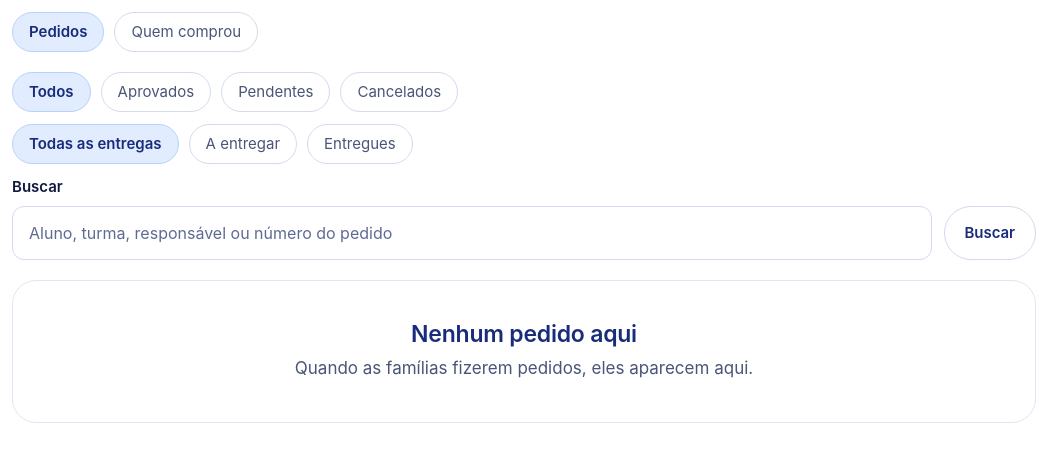
Test: pedidos da campanha › sem pedidos: explica; com filtro sem resultado: pede para tirar o filtro
The image size is (1048, 465).
Expected: the text "Quando as famílias fizerem pedidos, eles aparecem aqui." is shown, [267,356,781,382]
Click the button "Cancelados": [399, 92] box [340,72,458,112]
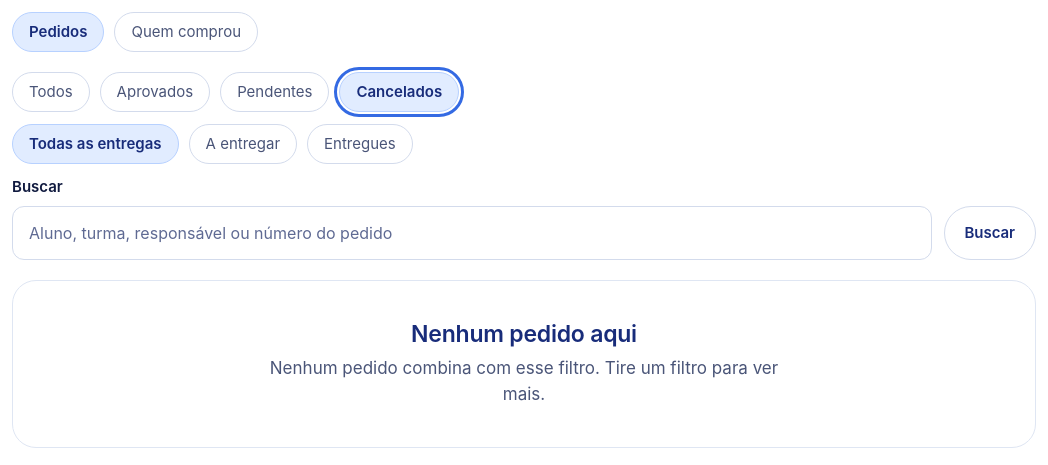
Expected: the text "Nenhum pedido combina com esse filtro" is shown, [270,358,778,404]
